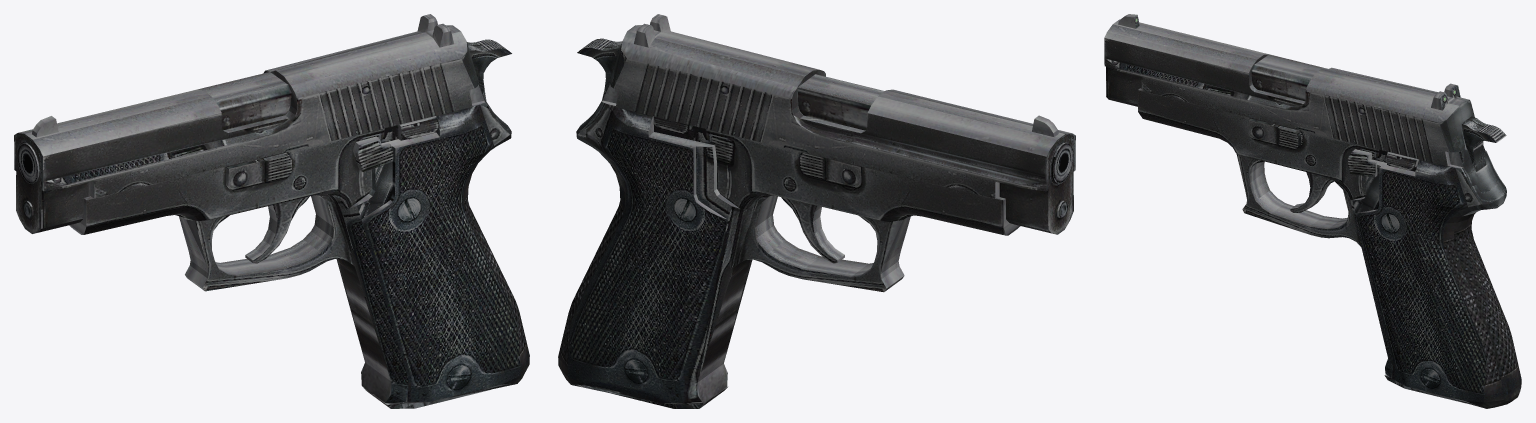
File: w_sig220.obj
3 views of the same model, side by side, from view 1: azimuth 30°, elevation 25°; view 2: azimuth 150°, elevation 25°; view 3: azimuth 330°, elevation 25° (orthographic). The views are drawn at different scales.
Visible parts, largest first — view 1: Sig220; view 2: Sig220; view 3: Sig220.
Boxes of the visible parts, left/top/right/bottom form: Sig220: left=14, top=14, right=529, bottom=408; Sig220: left=558, top=14, right=1075, bottom=408; Sig220: left=1104, top=14, right=1521, bottom=408.
Size of the model in its own units: 3.26 by 2.3 by 0.4867.
